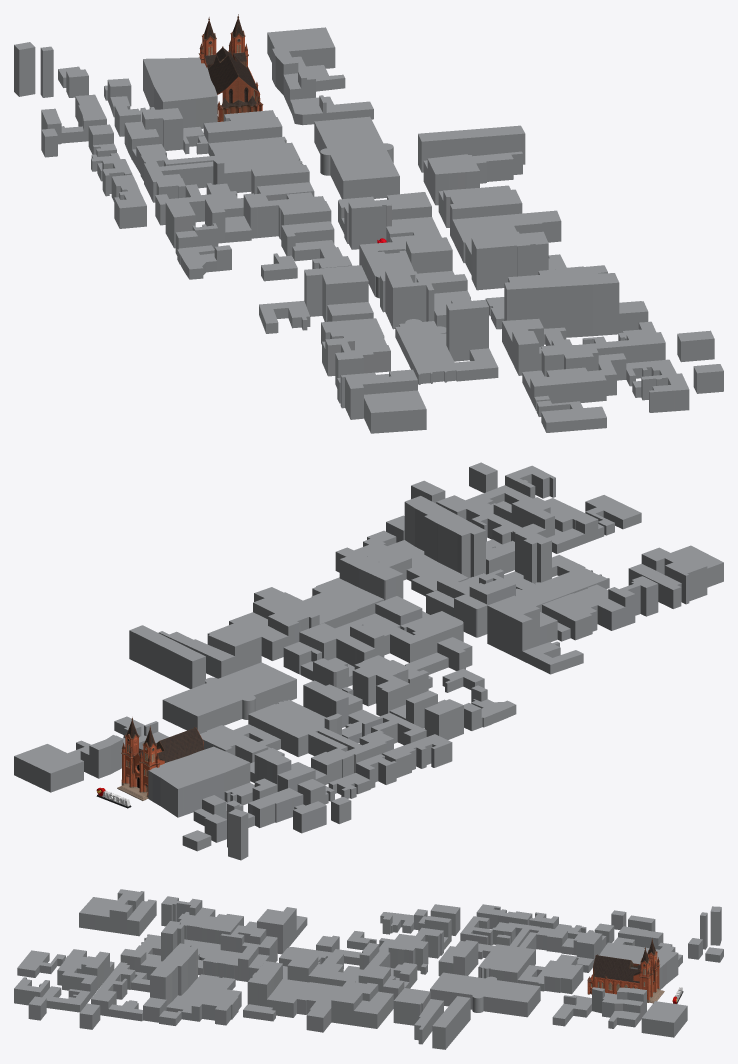
The model's file is mapa.glb.
3 renders of one model, top to bottom at view 1: azimuth 30°, elevation 25°; view 2: azimuth 150°, elevation 25°; view 3: azimuth 270°, elevation 25°, orthographic. The views are drawn at different scales.
Visible parts, largest first — view 1: Mesh_170, Mesh_151, Mesh_35, Mesh_96, Mesh_0.001, Mesh_32, Mesh_160, Mesh_123, Mesh_1, Mesh_121, Mesh_163, Mesh_38 (+47 smaller); view 2: Mesh_151, Mesh_35, Mesh_170, Mesh_0.001, Mesh_32, Mesh_123, Mesh_24, Mesh_156, Mesh_96, Mesh_38, Mesh_160, Mesh_163 (+47 smaller); view 3: Mesh_151, Mesh_0.001, Mesh_170, Mesh_24, Mesh_35, Mesh_32, Mesh_123, Mesh_156, Mesh_96, Mesh_92, Mesh_0, Mesh_71 (+80 smaller).
Part boxes in pixels (x1,y1,x2,y2): Mesh_170: (504,273,619,337); Mesh_151: (314,116,399,199); Mesh_35: (143,57,217,128); Mesh_96: (471,231,548,290); Mesh_0.001: (198,14,263,121); Mesh_32: (418,125,525,172); Mesh_160: (395,319,458,384); Mesh_123: (304,265,368,321); Mesh_1: (385,268,434,329); Mesh_121: (364,390,426,433); Mesh_163: (446,299,488,361); Mesh_38: (340,369,417,419); Mesh_151: (162,662,296,733); Mesh_35: (148,746,250,817); Mesh_170: (404,496,485,577); Mesh_0.001: (117,717,204,800); Mesh_32: (129,625,205,688); Mesh_123: (487,595,539,660); Mesh_24: (14,744,83,792); Mesh_156: (248,704,324,756); Mesh_96: (339,552,403,600); Mesh_38: (641,547,707,604); Mesh_160: (516,566,609,612); Mesh_163: (515,528,551,583); Mesh_151: (430,972,540,1017); Mesh_0.001: (587,938,664,1003); Mesh_170: (150,943,197,1005); Mesh_24: (641,1001,687,1037); Mesh_35: (599,942,678,989); Mesh_32: (432,996,470,1049); Mesh_123: (257,907,296,954); Mesh_156: (490,946,535,982); Mesh_96: (247,961,282,1006); Mesh_92: (353,991,393,1028); Mesh_0: (393,988,430,1025); Mesh_71: (267,979,309,1017).
Bounding box in the file's own units: 88.58 × 16.1 × 192.
177 materials, 2 textured.
